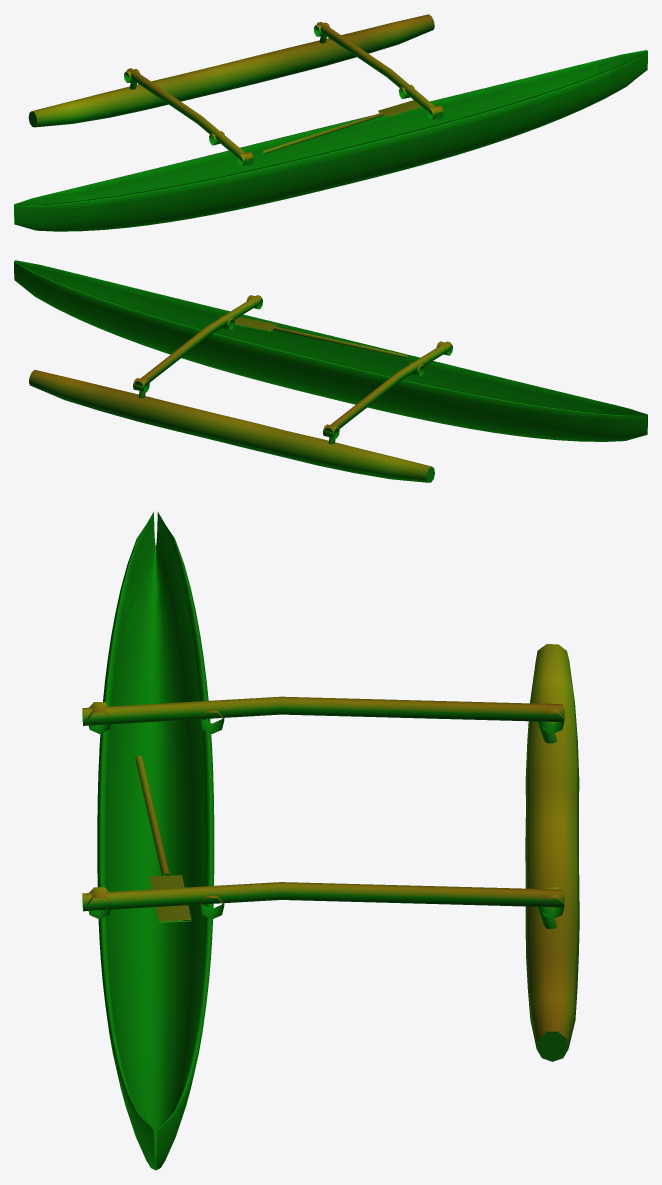
Rendered from outrigger_7m.glb.
3 renders of one model, top to bottom at view 1: azimuth 30°, elevation 25°; view 2: azimuth 150°, elevation 25°; view 3: azimuth 270°, elevation 25°, orthographic. The views are drawn at different scales.
Visible parts, largest first — view 1: outrigger_7m; view 2: outrigger_7m; view 3: outrigger_7m.
Part boxes in pixels (x1=…): outrigger_7m: x1=14, y1=14, x2=647, y2=231; outrigger_7m: x1=14, y1=260, x2=647, y2=482; outrigger_7m: x1=82, y1=512, x2=579, y2=1170.
Size of what is drawn, in the model's own units: 7 by 0.7605 by 2.38.
